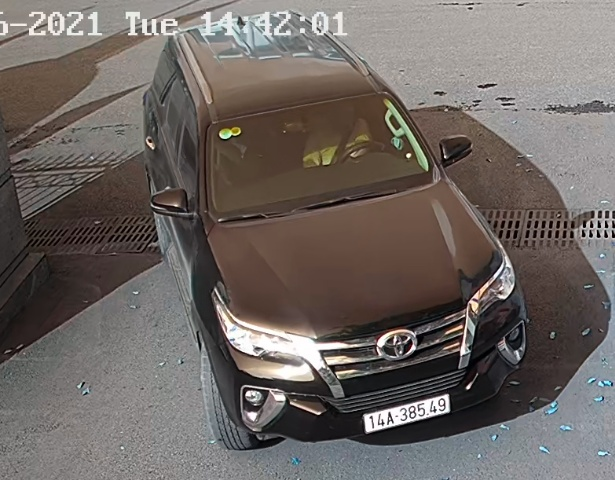vehicle plate: (355, 389, 461, 436)
